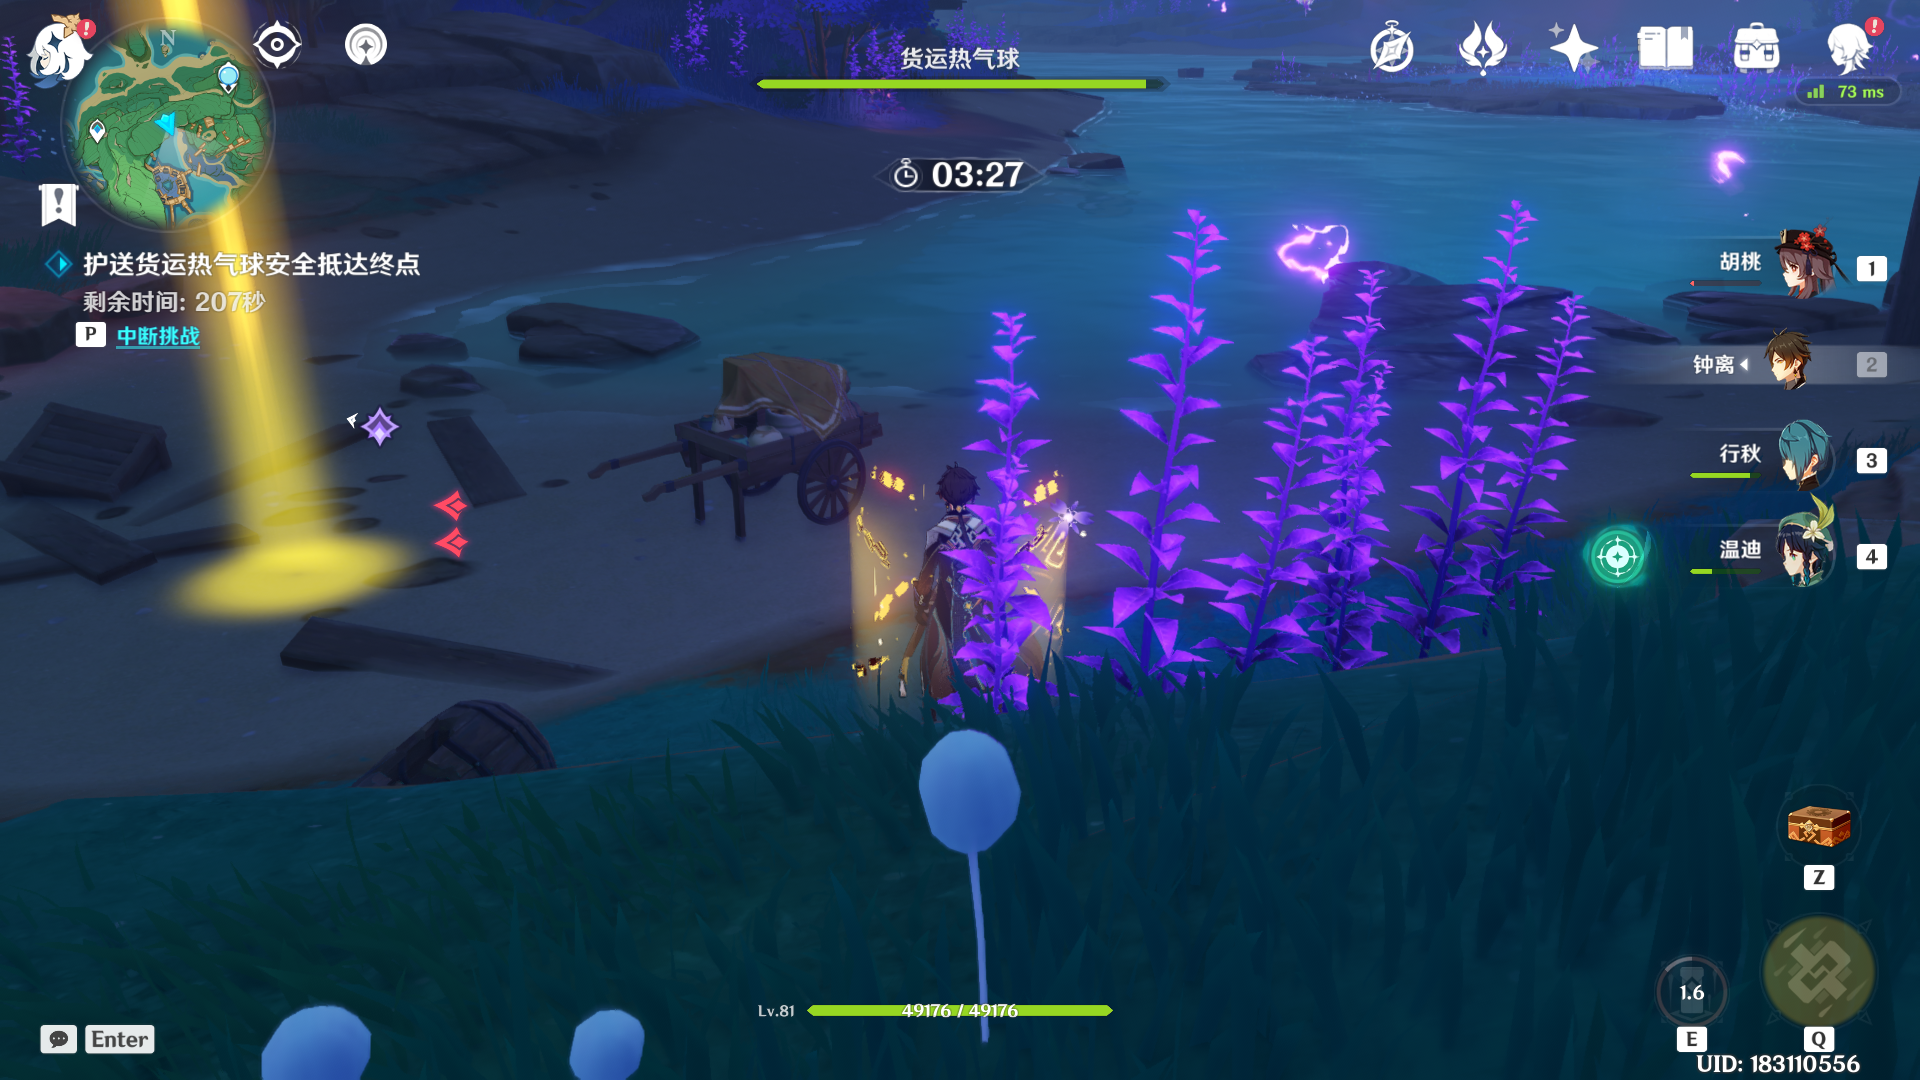character: (851, 463, 1036, 744)
